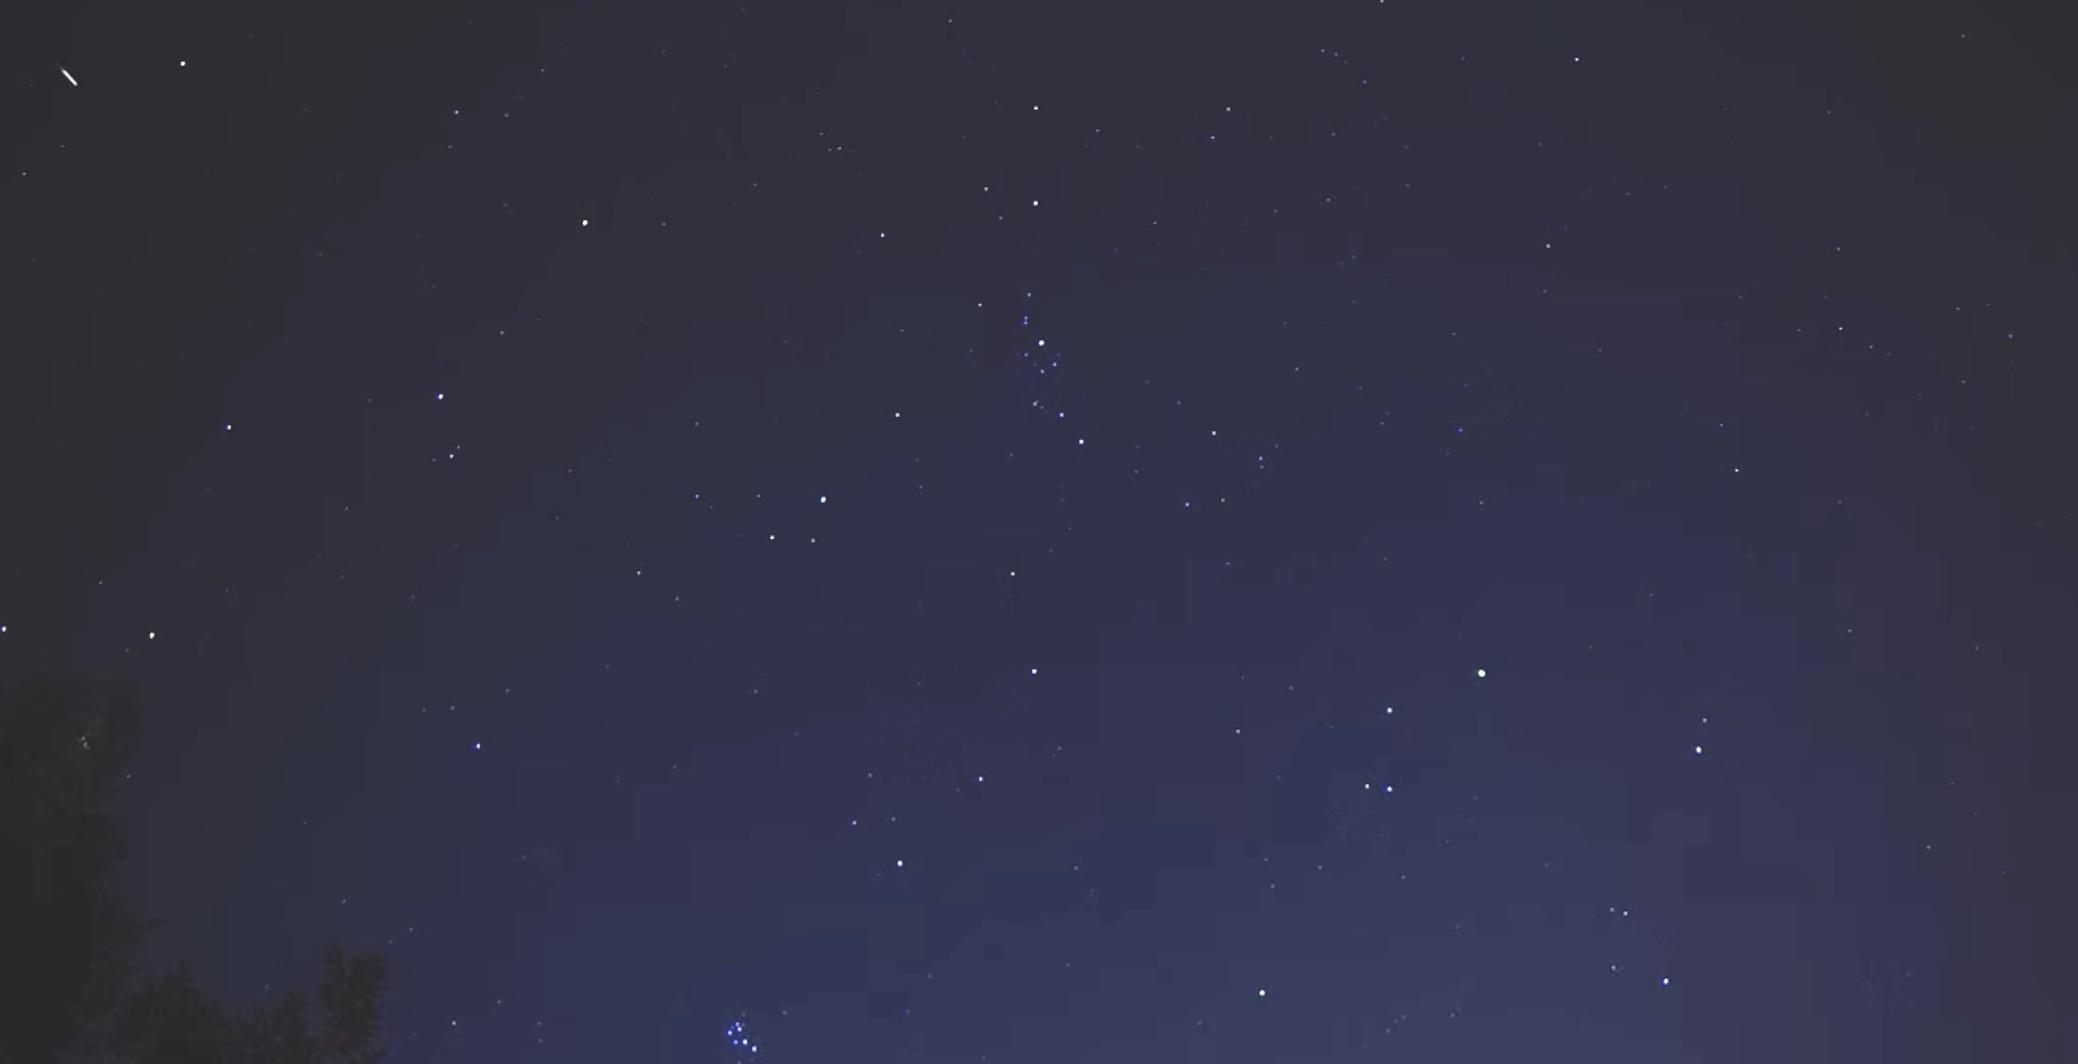meteorite: (24, 50, 117, 100)
